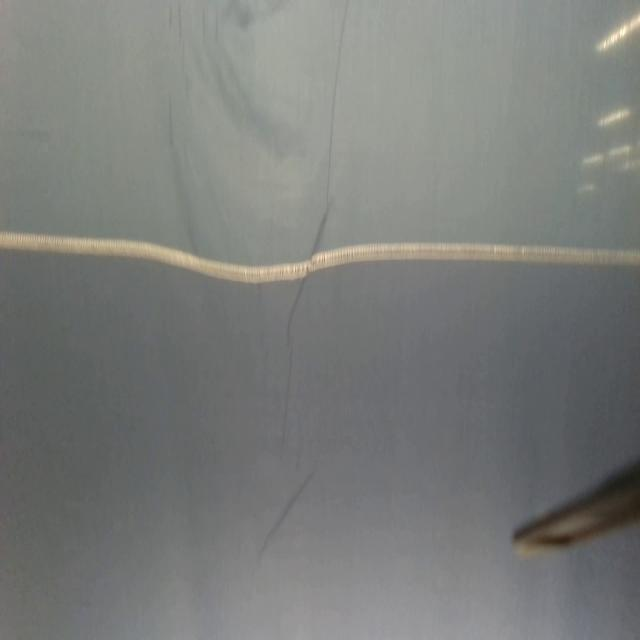crease: (284, 208, 334, 329), (323, 2, 352, 202), (258, 472, 316, 564)
